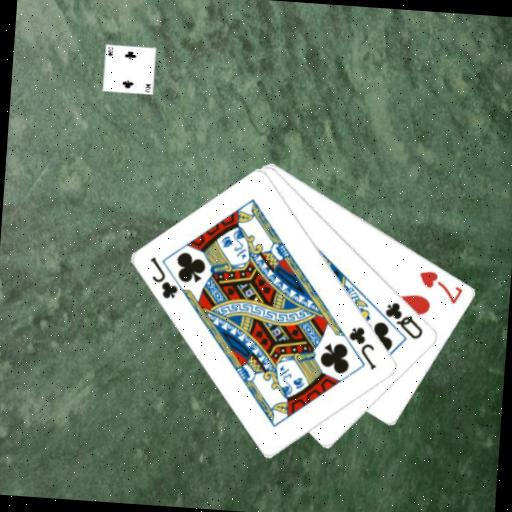7H: (415, 267, 466, 307)
JC: (145, 253, 183, 301), (344, 322, 381, 371)
QC: (380, 299, 427, 342)
